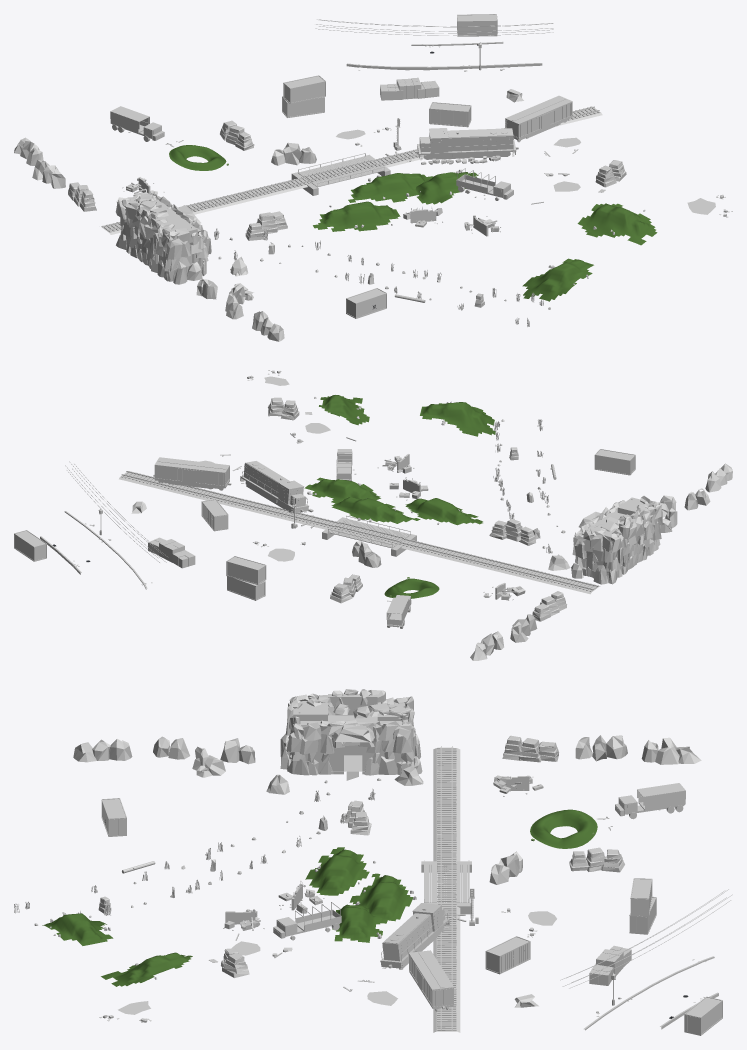
The model's file is outdoor_02.glb.
The picture shows the model from 3 angles, top to bottom: view 1: azimuth 30°, elevation 25°; view 2: azimuth 150°, elevation 25°; view 3: azimuth 270°, elevation 25°; orthographic projection. The views are drawn at different scales.
Visible parts, largest first — view 1: gas_station_town; view 2: gas_station_town; view 3: gas_station_town.
Boxes of the visible parts, x1,y1,x2,y2 form: gas_station_town: (14, 14, 732, 341); gas_station_town: (14, 370, 732, 660); gas_station_town: (14, 689, 732, 1035).
Bounding box in the file's own units: 90.35 × 12.88 × 93.76.
Materials: 5 (4 with a texture image).
